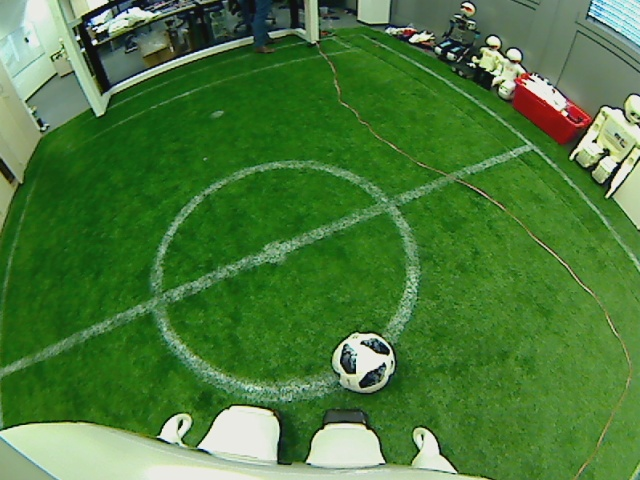ball: (329, 328, 396, 393)
